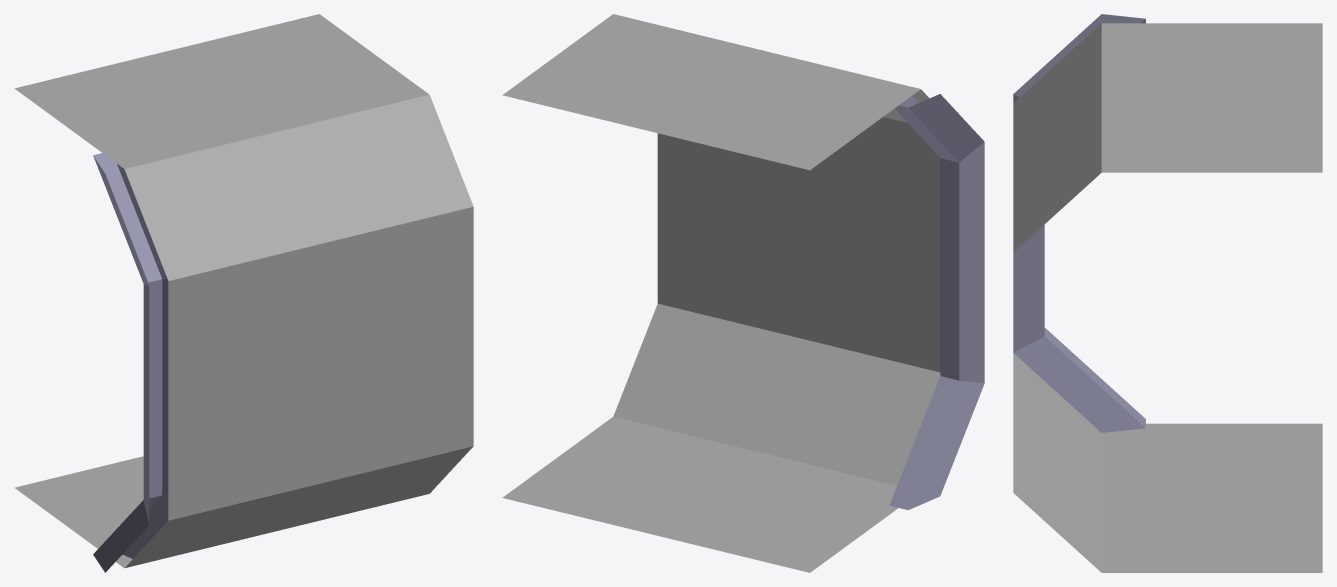
Rendered from tunnel_side_template_1.fbx.
3 views of the same model, side by side, from view 1: azimuth 30°, elevation 25°; view 2: azimuth 150°, elevation 25°; view 3: azimuth 270°, elevation 25° (orthographic).
Visible parts, largest first — view 1: Tile_Straight00; view 2: Tile_Straight00; view 3: Tile_Straight00.
Part boxes in pixels (x1,y1,x2,y2): Tile_Straight00: (14,14,473,572); Tile_Straight00: (502,14,984,572); Tile_Straight00: (1013,14,1322,572).
Size of the model in its own units: 2.12 by 2.5 by 1.75.
